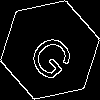G: (25, 25, 84, 85)
